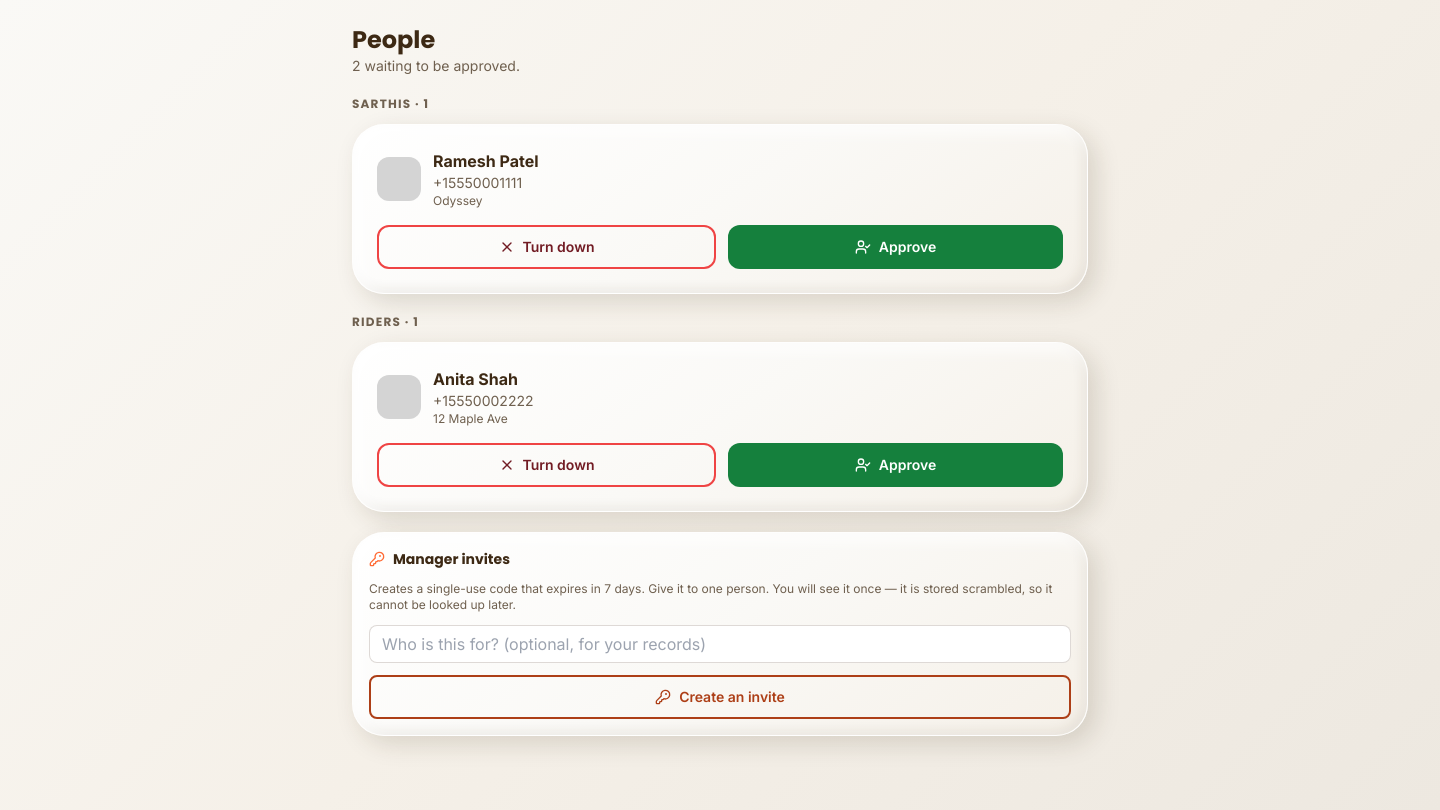
Test: ManagerPeople — approving › reports a failure rather than looking like it worked
Click the button "Approve" below "Odyssey" at x=896, y=247, box [728,225,1063,269]
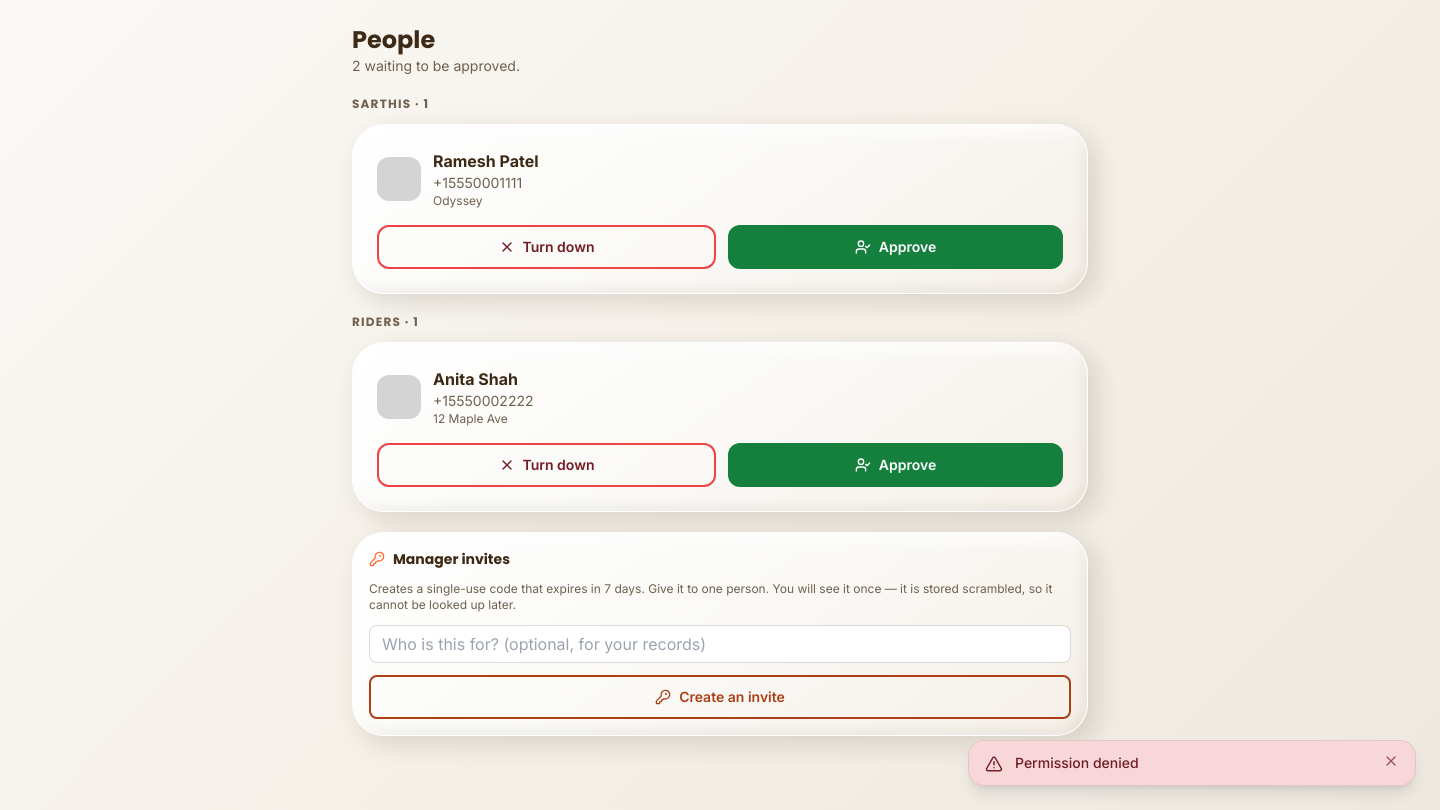
Now the text "Permission denied" is shown, box [1015,754,1139,771]
